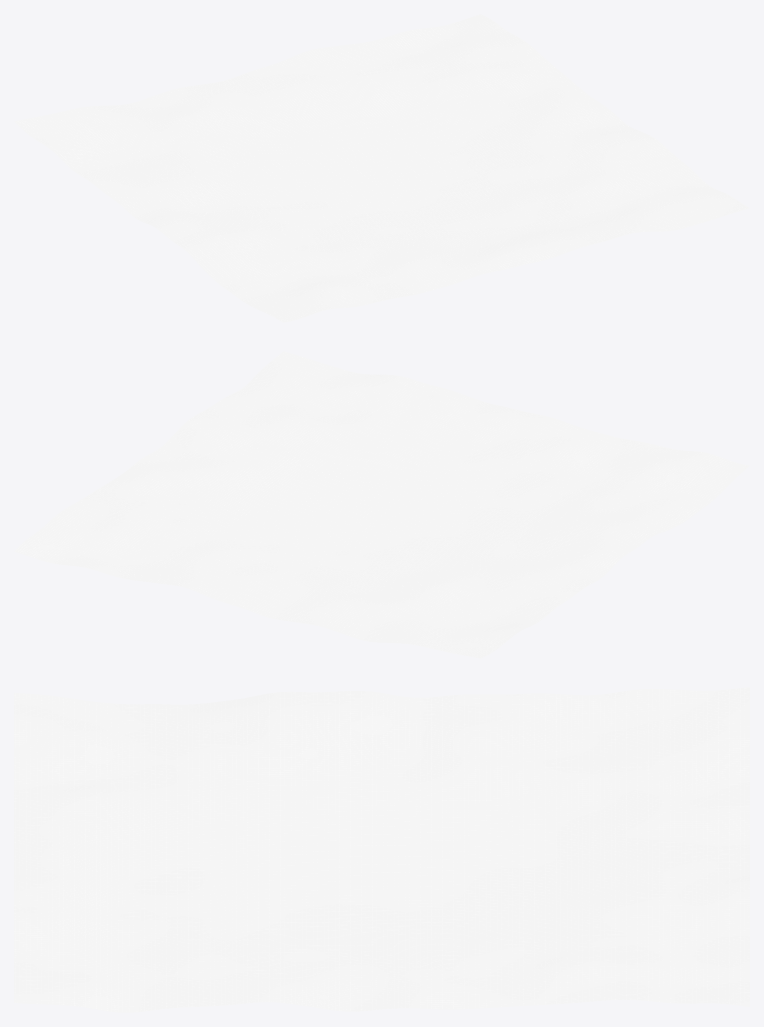
The model's file is floor.glb.
3 views of the same model, one above another, from view 1: azimuth 30°, elevation 25°; view 2: azimuth 150°, elevation 25°; view 3: azimuth 270°, elevation 25° (orthographic). The views are drawn at different scales.
Parts seen in each view (by area): view 1: Plane.002; view 2: Plane.002; view 3: Plane.002.
Boxes of the visible parts, bbox=[...] form: Plane.002: bbox=[14, 14, 749, 322]; Plane.002: bbox=[14, 351, 749, 658]; Plane.002: bbox=[14, 687, 749, 1012].
Bounding box in the file's own units: 1000 × 32.45 × 1000.
1 material, 1 textured.
